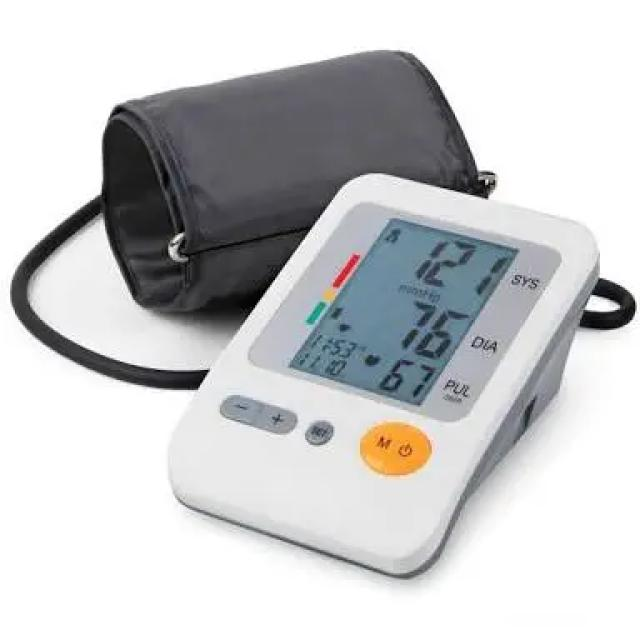dia: (372, 283, 478, 370)
pul: (354, 340, 441, 410)
ssd: (287, 179, 522, 441)
sys: (401, 223, 516, 310)
